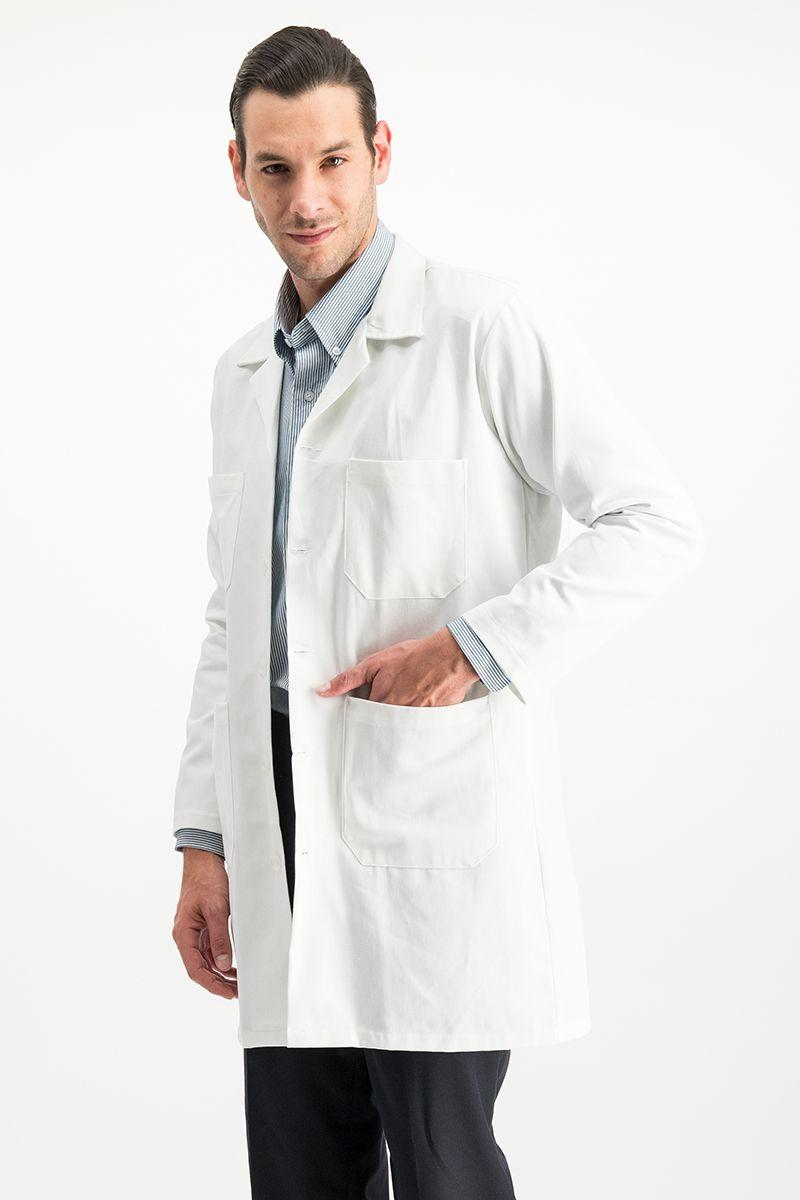Bata-Correcta: (173, 27, 692, 1199)
